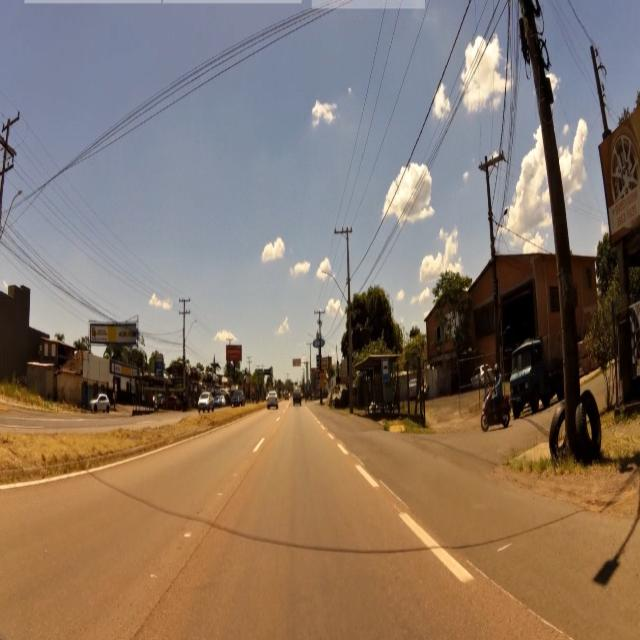S-14: (380, 358, 390, 384)
